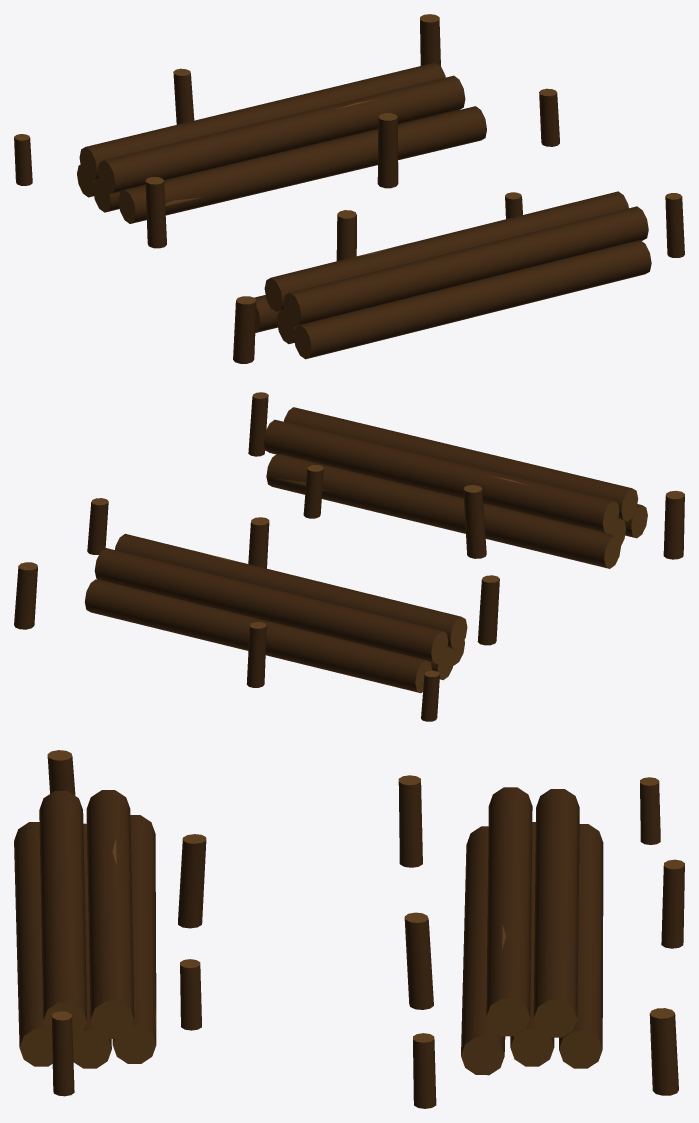
File: Resource_PineTree_Group_Cut.obj
3 renders of one model, top to bottom at view 1: azimuth 30°, elevation 25°; view 2: azimuth 150°, elevation 25°; view 3: azimuth 270°, elevation 25°, orthographic. The views are drawn at different scales.
Parts seen in each view (by area): view 1: Resource_PineTree_Group_Cut_Cylinder.012; view 2: Resource_PineTree_Group_Cut_Cylinder.012; view 3: Resource_PineTree_Group_Cut_Cylinder.012.
Boxes of the visible parts, bbox=[...] form: Resource_PineTree_Group_Cut_Cylinder.012: bbox=[14, 14, 684, 363]; Resource_PineTree_Group_Cut_Cylinder.012: bbox=[14, 392, 684, 721]; Resource_PineTree_Group_Cut_Cylinder.012: bbox=[14, 750, 684, 1108].
Bounding box in the file's own units: 1.49 × 0.2116 × 1.48.
